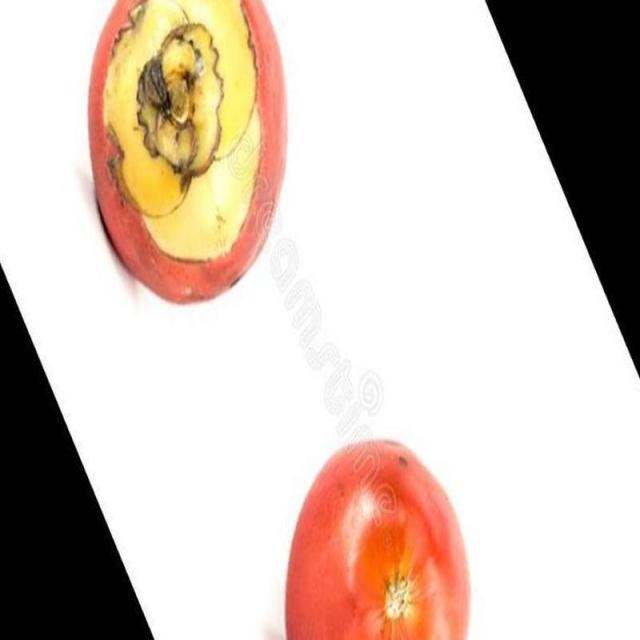good: (89, 0, 285, 301), (286, 442, 468, 639)
